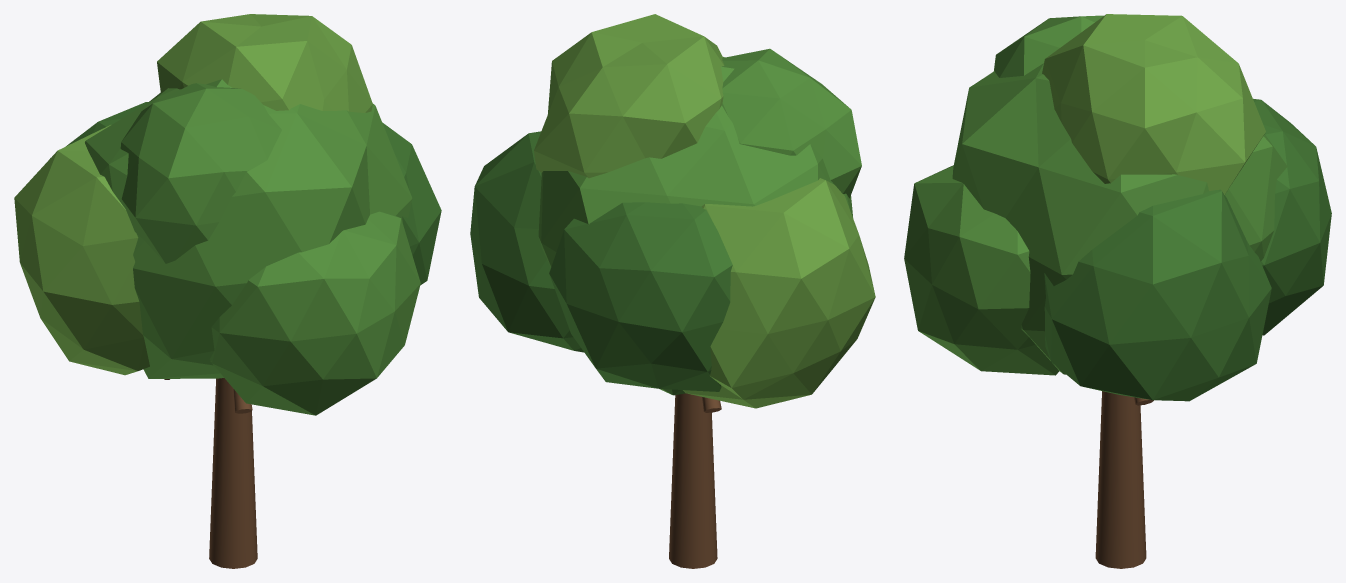
File: Agac_Mese.fbx
3 renders of one model, left to right at view 1: azimuth 30°, elevation 25°; view 2: azimuth 150°, elevation 25°; view 3: azimuth 270°, elevation 25°, orthographic. The views are drawn at different scales.
Parts seen in each view (by area): view 1: Agac_Mese_Model; view 2: Agac_Mese_Model; view 3: Agac_Mese_Model.
Boxes of the visible parts, x1,y1,x2,y2 form: Agac_Mese_Model: (14,14,441,568); Agac_Mese_Model: (470,14,875,568); Agac_Mese_Model: (904,14,1331,568).
Size of the model in its own units: 5.91 by 7.52 by 5.38.
